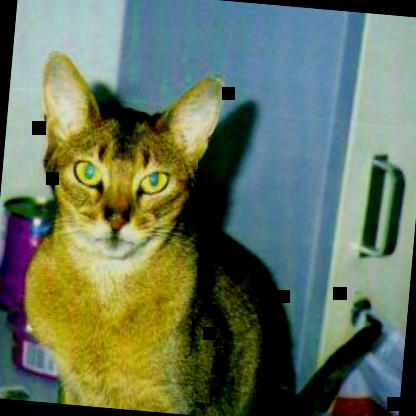cat: (13, 48, 404, 415)
